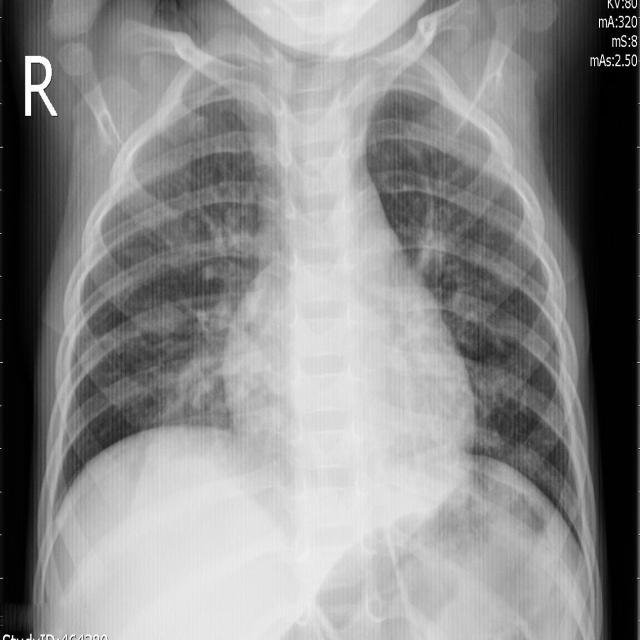low-pneumonia: (162, 291, 241, 432), (409, 183, 467, 284)
